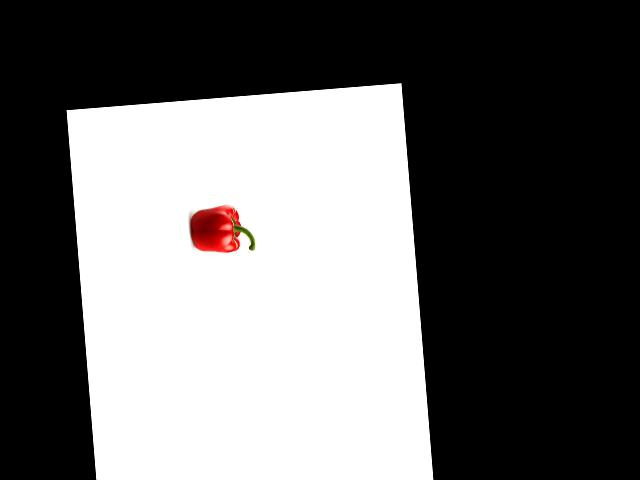bell_pepper: (188, 204, 256, 257)
